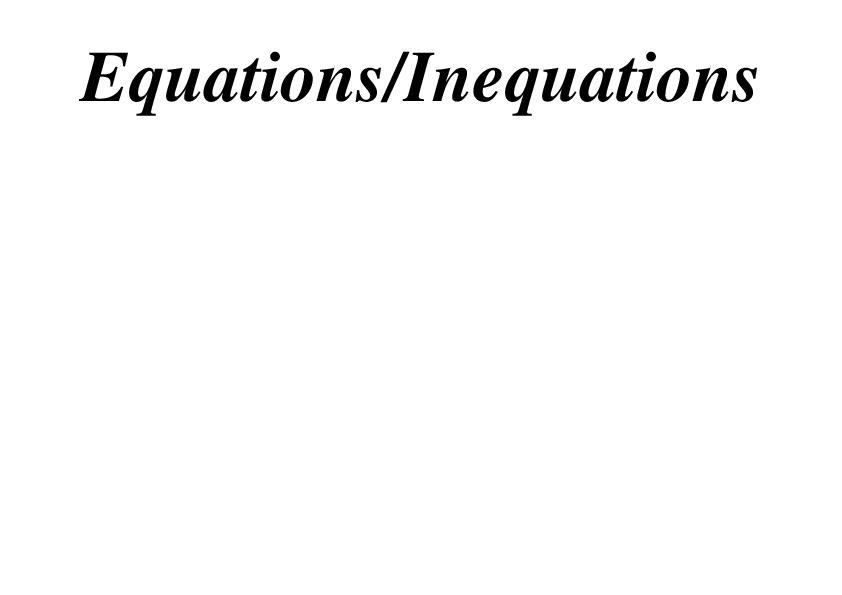title: (73, 21, 792, 141)
